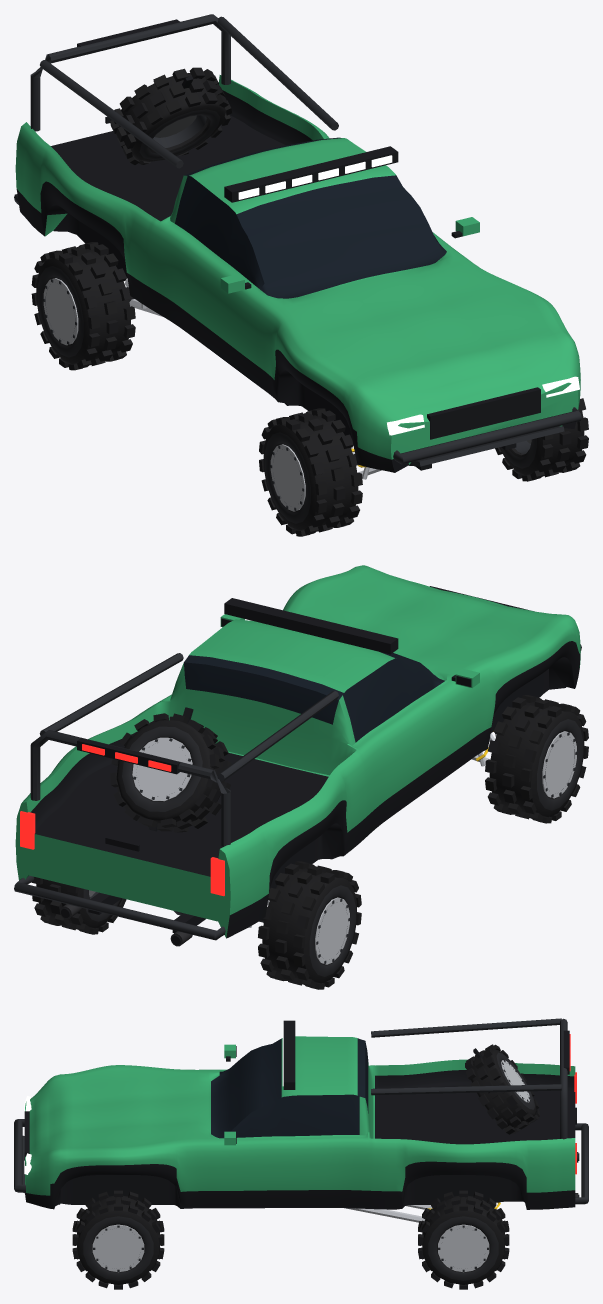
The model's file is trophy.glb.
3 views of the same model, one above another, from view 1: azimuth 30°, elevation 25°; view 2: azimuth 150°, elevation 25°; view 3: azimuth 270°, elevation 25° (orthographic). The views are drawn at different scales.
Parts seen in each view (by area): view 1: body, wheel_RR, wheel_FR, wheel_FL; view 2: body, wheel_FR, wheel_RR, wheel_RL; view 3: body, wheel_FL, wheel_RL.
Boxes of the visible parts, <box> form: body: <box>14,14,581,479</box>; wheel_RR: <box>31,242,135,370</box>; wheel_FR: <box>259,408,362,536</box>; wheel_FL: <box>495,398,588,481</box>; body: <box>14,565,581,946</box>; wheel_FR: <box>485,695,588,823</box>; wheel_RR: <box>258,861,361,989</box>; wheel_RL: <box>32,877,126,934</box>; body: <box>14,1018,588,1222</box>; wheel_FL: <box>72,1190,164,1289</box>; wheel_RL: <box>418,1190,509,1289</box>.
Size of the model in its own units: 2.47 by 2.16 by 5.91.
